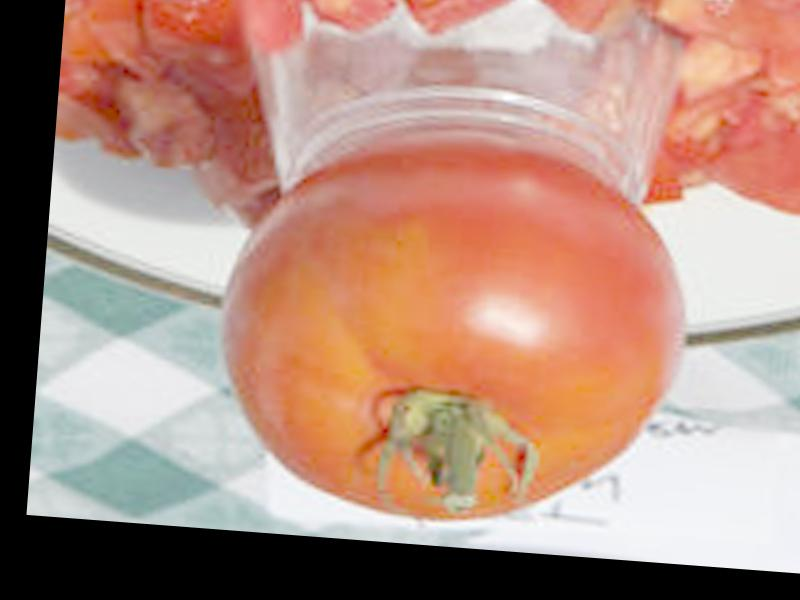Tomato: (206, 124, 701, 542)
